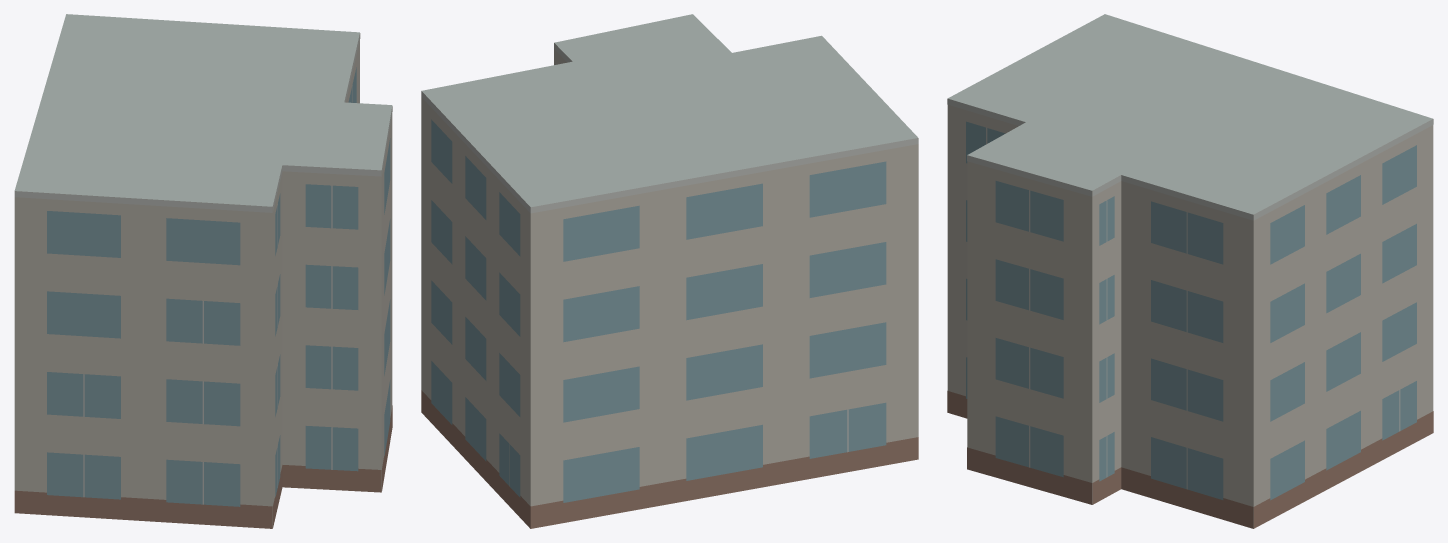
File: survey-upis-32461686.glb
3 views of the same model, side by side, from view 1: azimuth 30°, elevation 25°; view 2: azimuth 150°, elevation 25°; view 3: azimuth 270°, elevation 25° (orthographic). The views are drawn at different scales.
Visible parts, largest first — view 1: survey-upis-32461686.tmp; view 2: survey-upis-32461686.tmp; view 3: survey-upis-32461686.tmp.
Boxes of the visible parts, x1,y1,x2,y2 form: survey-upis-32461686.tmp: (14,14,392,528); survey-upis-32461686.tmp: (421,14,918,528); survey-upis-32461686.tmp: (947,14,1433,528).
Bounding box in the file's own units: 17.44 × 12.72 × 17.84.
